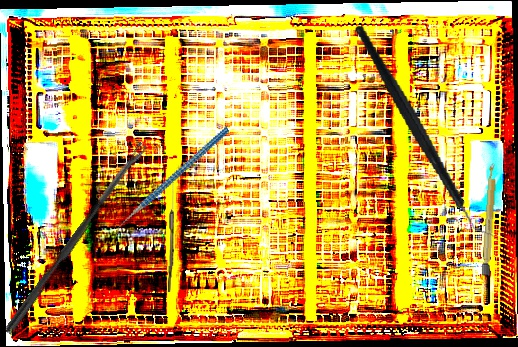Chopper: (353, 8, 497, 256), (93, 126, 252, 241)
Scalpel Handle: (481, 161, 498, 277)
Surgical Spoon: (3, 142, 149, 336), (168, 182, 175, 293)
